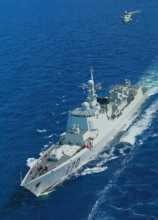airplane: (117, 8, 141, 26)
warship: (14, 63, 147, 197)
